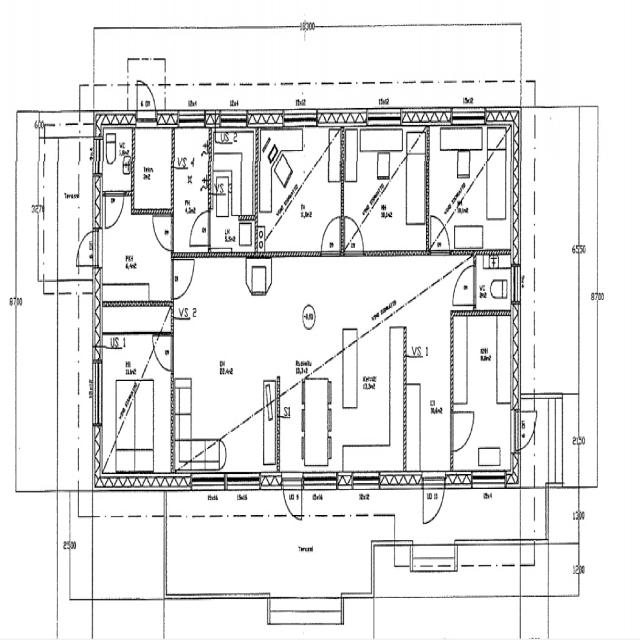door: (449, 406, 477, 455), (422, 474, 446, 526), (452, 260, 476, 309), (172, 256, 195, 302), (135, 79, 158, 124), (282, 474, 304, 521), (428, 212, 452, 254), (517, 407, 538, 451), (342, 213, 365, 253), (318, 212, 342, 250), (188, 208, 210, 248), (103, 191, 125, 230), (152, 333, 173, 373), (152, 214, 173, 253), (76, 230, 96, 268)
window: (410, 544, 458, 578), (224, 470, 262, 496), (364, 108, 404, 132), (448, 106, 487, 130), (470, 469, 507, 494), (190, 472, 228, 495), (349, 468, 382, 494), (284, 110, 317, 131), (176, 110, 204, 129), (511, 263, 521, 305)
zone: (172, 259, 272, 475), (97, 328, 173, 483), (425, 123, 513, 251), (337, 281, 398, 465), (341, 128, 427, 254), (452, 310, 515, 480), (266, 126, 342, 252), (40, 130, 95, 286), (99, 208, 173, 310), (211, 125, 257, 255), (172, 126, 211, 251), (132, 127, 173, 216), (474, 253, 514, 316), (96, 126, 134, 192), (547, 487, 581, 546), (449, 406, 477, 456), (246, 258, 272, 298)
